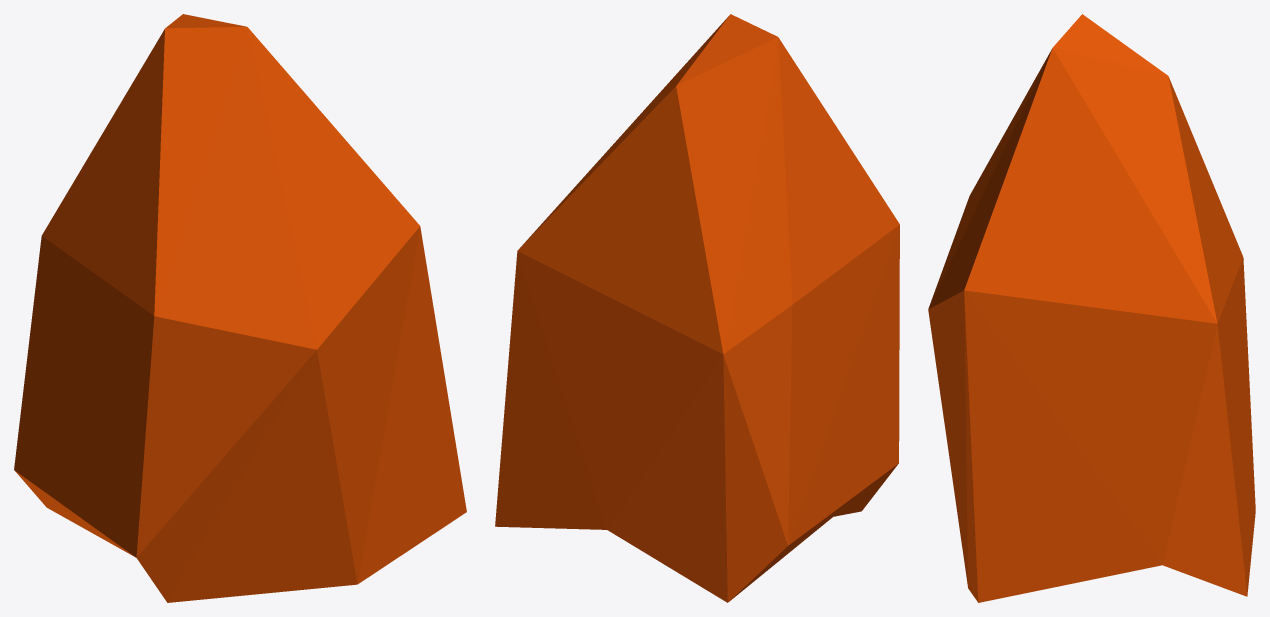
The model's file is tree-autumn-leaves-7-051.glb.
The picture shows the model from 3 angles, left to right: view 1: azimuth 30°, elevation 25°; view 2: azimuth 150°, elevation 25°; view 3: azimuth 270°, elevation 25°; orthographic projection. The views are drawn at different scales.
Parts seen in each view (by area): view 1: TREE 7.003_403; view 2: TREE 7.003_403; view 3: TREE 7.003_403.
Part boxes in pixels (<box>): TREE 7.003_403: <box>14,14,466,602</box>; TREE 7.003_403: <box>495,14,899,602</box>; TREE 7.003_403: <box>928,14,1255,602</box>.
Size of the model in its own units: 0.7087 by 1.11 by 0.6447.
